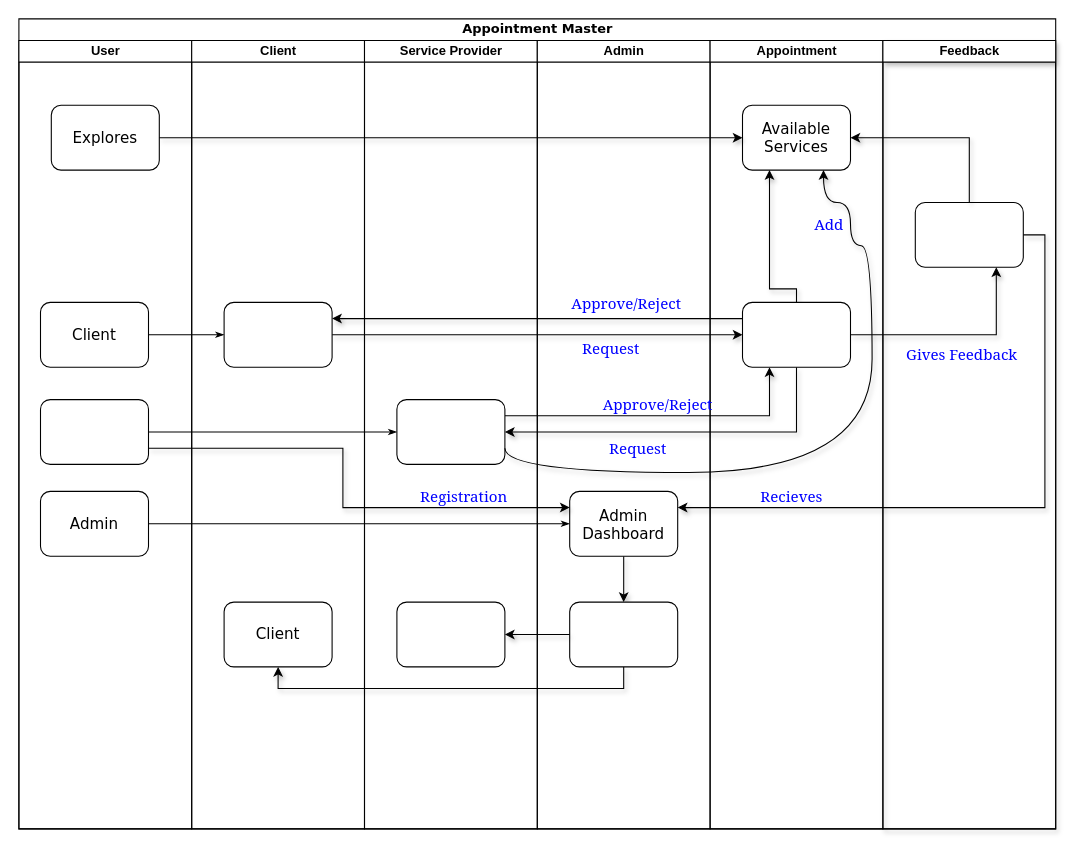
This 1081x855 diagram has some shape labels left out. The centre of each missing label's shape, as x and y in pixels:
"Client Dashboard" belongs at [277,334].
"Given Feedbacks to Service" belongs at [968,234].
"Manages" belongs at [623,634].
"Request for appointment" belongs at [795,334].
"SP" belongs at [93,431].
"SP Dashboard" belongs at [450,431].
"SPs" belongs at [450,634].
